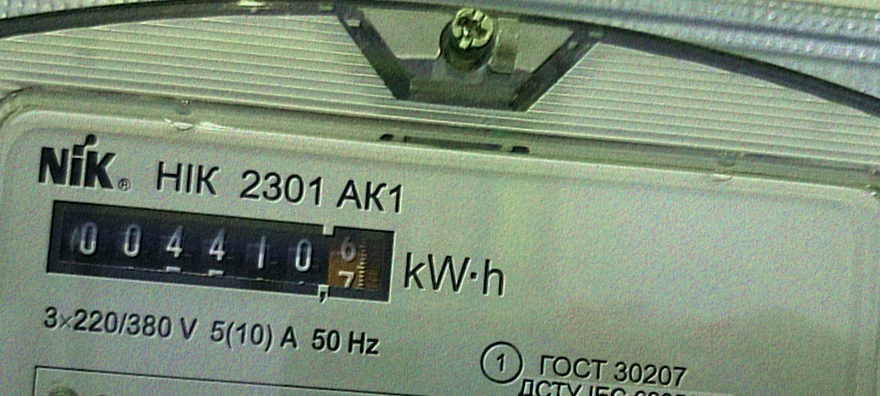0: (75, 218, 99, 257), (120, 220, 141, 259), (291, 237, 313, 274)
1: (251, 233, 268, 271)
4: (161, 220, 186, 260), (204, 225, 229, 265)
6: (338, 236, 358, 263)
7: (334, 268, 354, 289)
screen: (32, 187, 407, 315)
